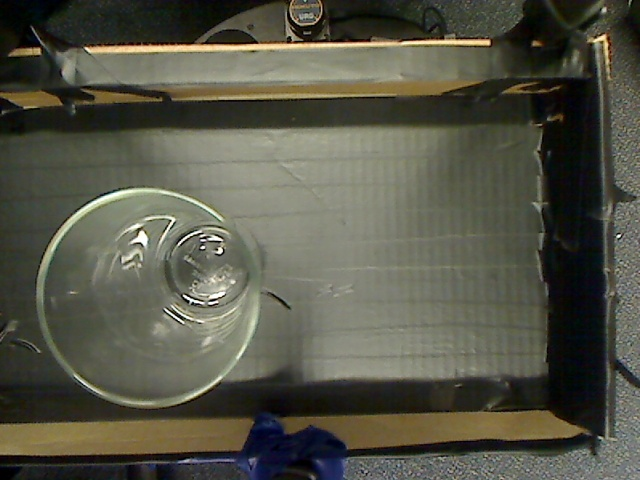cup: (24, 188, 285, 427)
